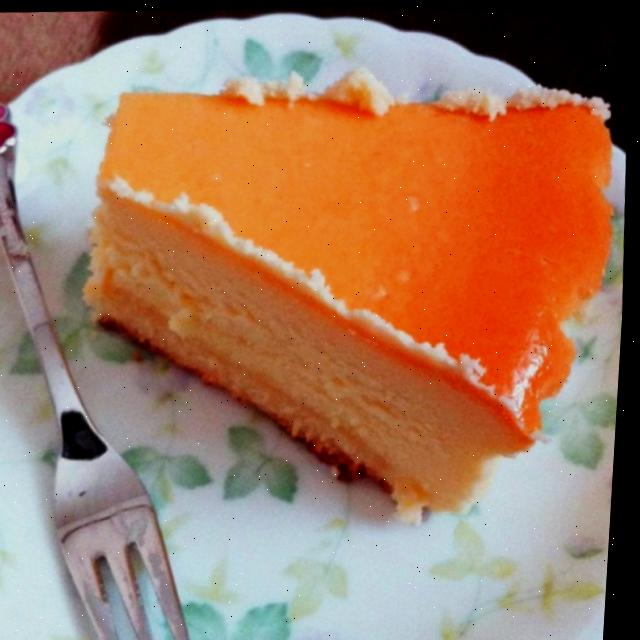蛋糕甜品: (28, 24, 639, 570)
